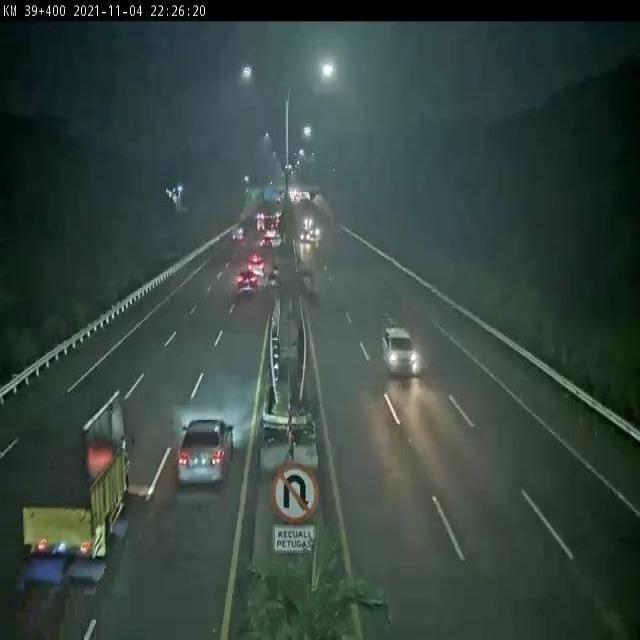car: (174, 418, 234, 482), (382, 328, 422, 381), (234, 271, 258, 293), (249, 259, 263, 276)
truck-m-: (19, 411, 132, 561)
